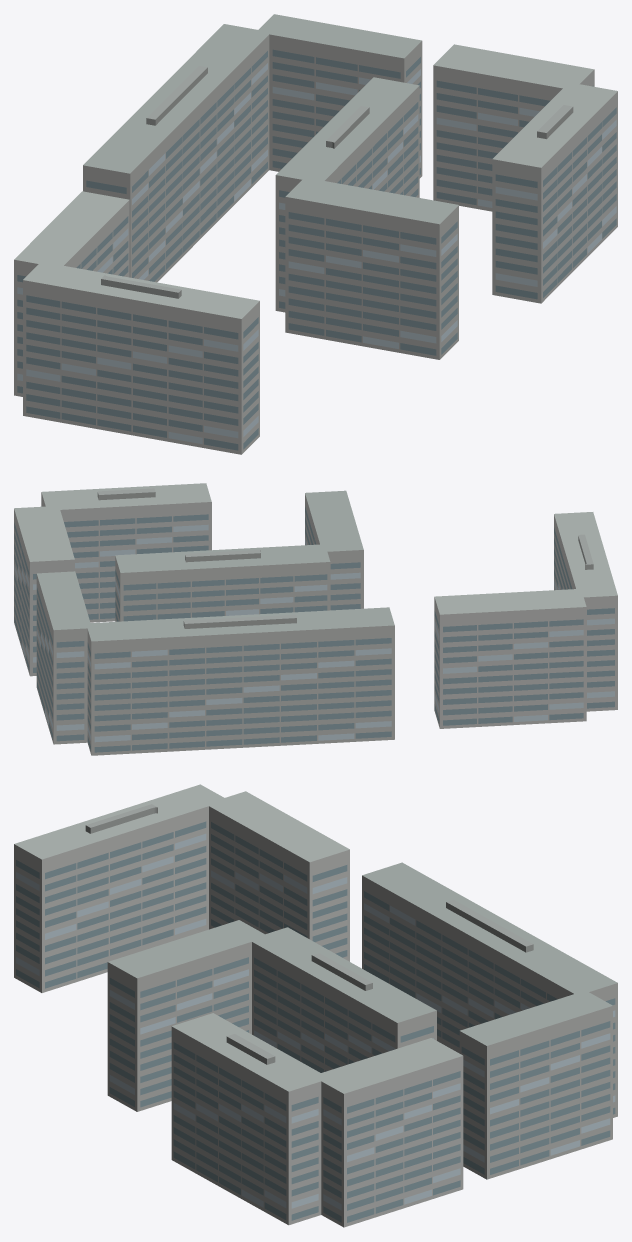
The model's file is apt-a15285004.glb.
3 views of the same model, one above another, from view 1: azimuth 30°, elevation 25°; view 2: azimuth 150°, elevation 25°; view 3: azimuth 270°, elevation 25° (orthographic). The views are drawn at different scales.
Parts seen in each view (by area): view 1: apt-a15285004; view 2: apt-a15285004; view 3: apt-a15285004.
Part boxes in pixels (x1=…): apt-a15285004: x1=14, y1=14, x2=617, y2=454; apt-a15285004: x1=14, y1=483, x2=617, y2=755; apt-a15285004: x1=14, y1=784, x2=617, y2=1227.
Bounding box in the file's own units: 167 × 35.06 × 137.
